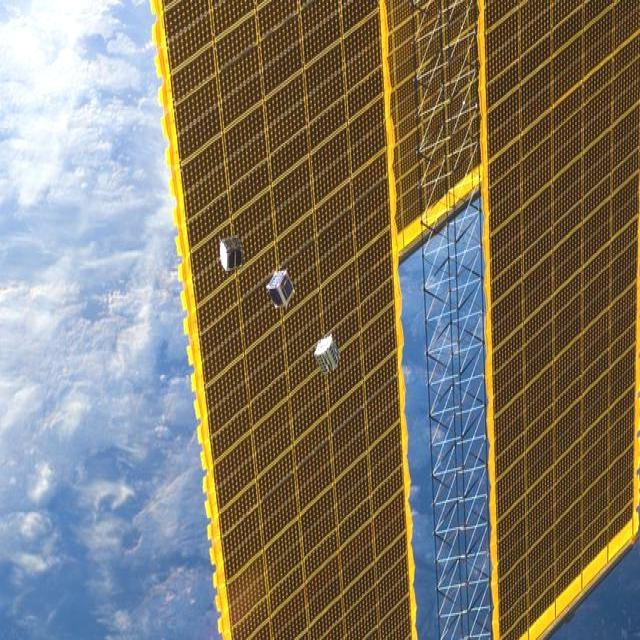medium_debris: (208, 0, 629, 619), (264, 266, 304, 307), (318, 326, 342, 382), (220, 227, 243, 279)
